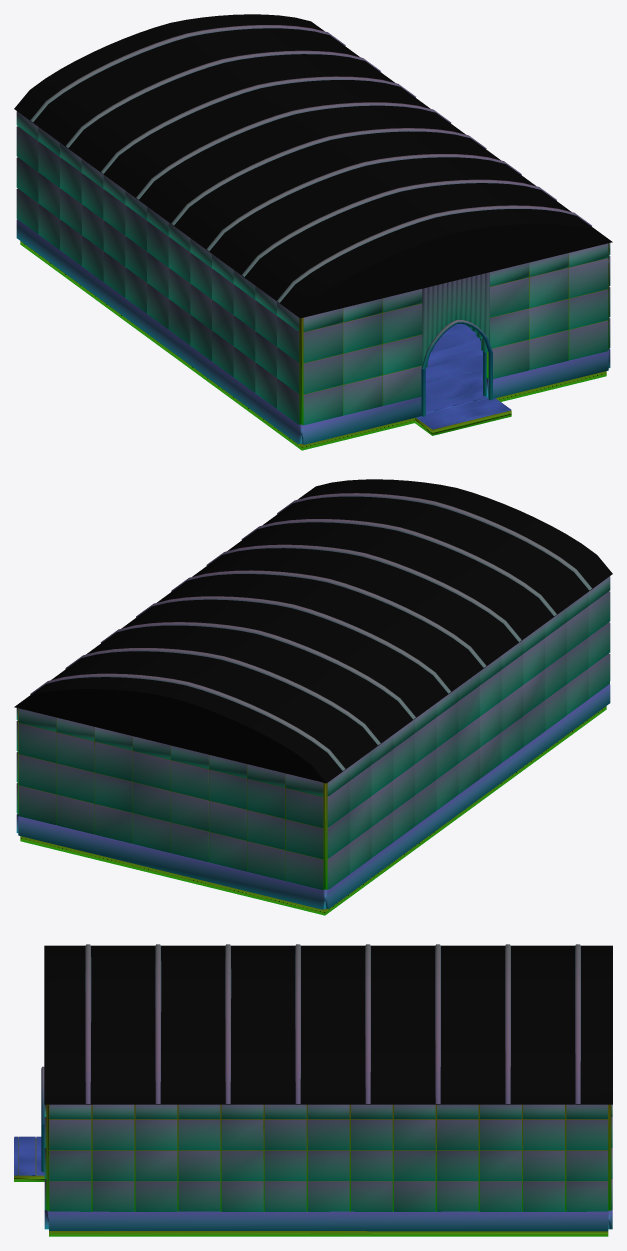
File: ansedra_archive.glb
3 views of the same model, one above another, from view 1: azimuth 30°, elevation 25°; view 2: azimuth 150°, elevation 25°; view 3: azimuth 270°, elevation 25° (orthographic).
Parts seen in each view (by area): view 1: ansedra_archive; view 2: ansedra_archive; view 3: ansedra_archive.
Boxes of the visible parts, x1=… form: ansedra_archive: x1=14, y1=14, x2=612, y2=450; ansedra_archive: x1=14, y1=479, x2=612, y2=915; ansedra_archive: x1=14, y1=944, x2=612, y2=1236.
Size of what is drawn, in the model's own units: 20.55 by 11.55 by 34.24.
